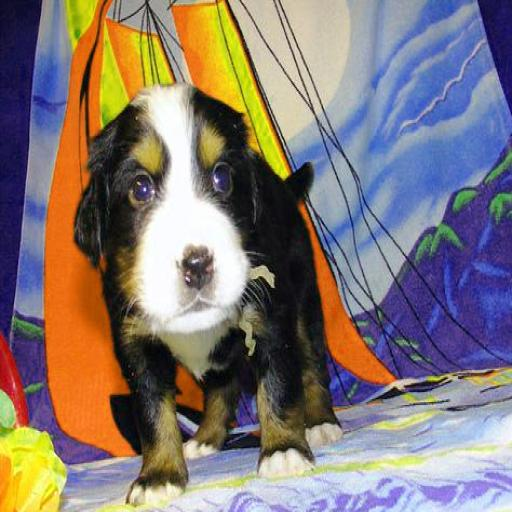dog_face: (86, 98, 260, 328)
